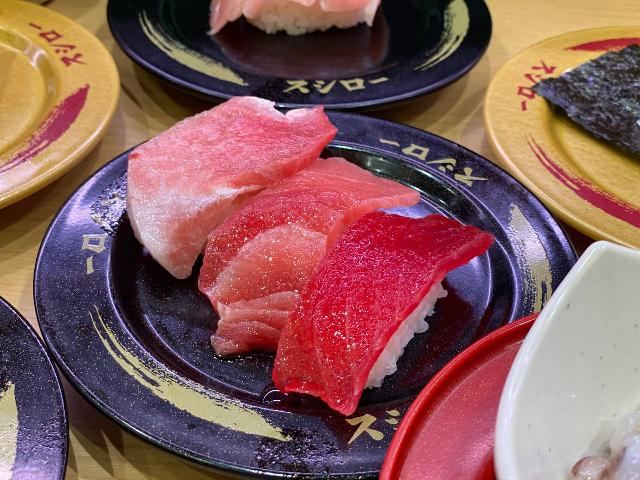janback: (30, 228, 154, 432), (153, 392, 386, 480), (477, 158, 576, 320), (220, 25, 429, 99), (0, 268, 67, 480), (345, 107, 477, 203), (109, 0, 223, 82), (417, 0, 493, 82)
jangold: (504, 36, 640, 246), (0, 0, 112, 210)
